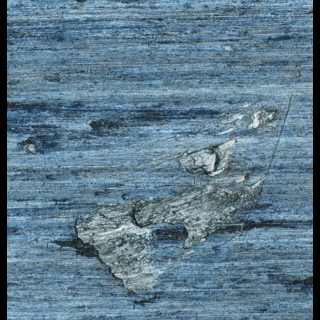d: (52, 99, 280, 307), (17, 132, 51, 156)
